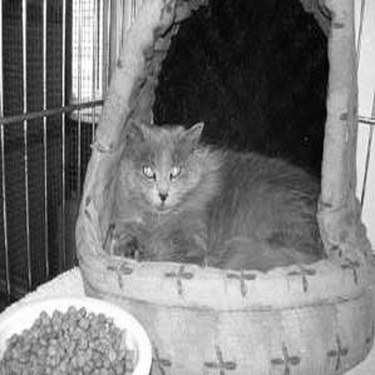cat: (48, 83, 365, 278)
